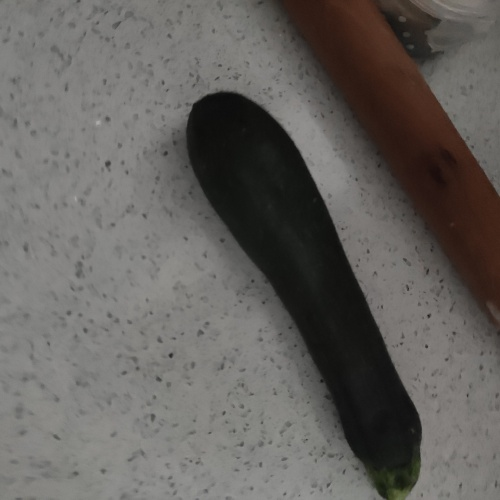zucchine: (196, 118, 428, 476)
